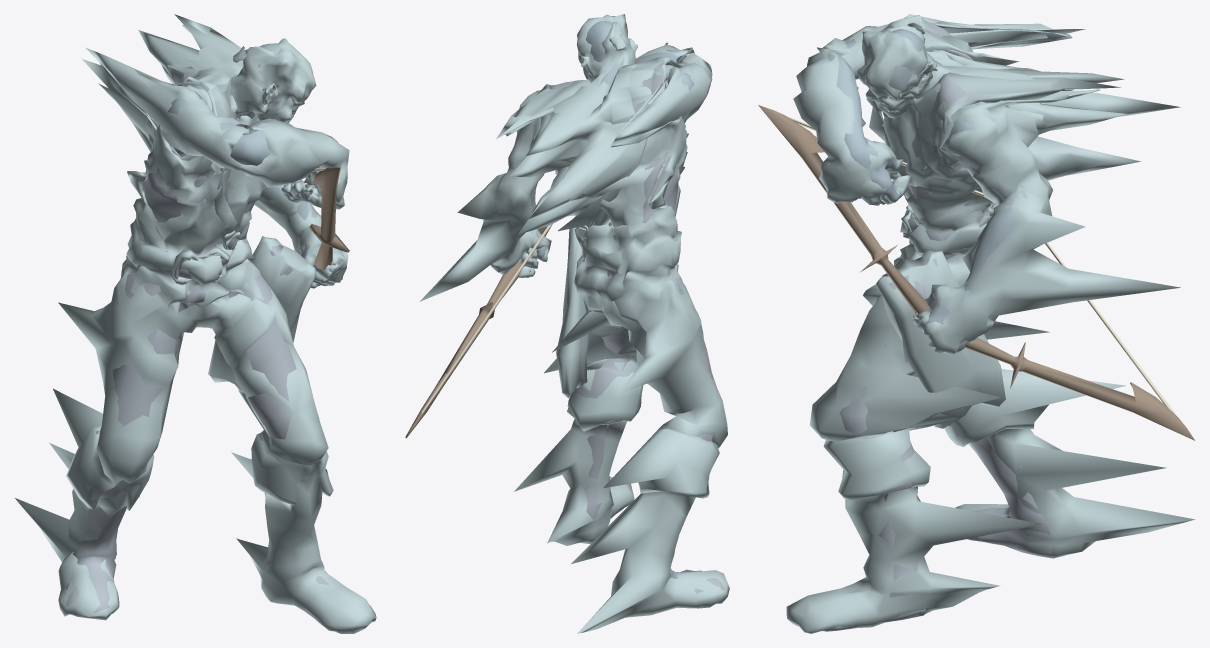
Rendered from frozenguy3.fbx.
The picture shows the model from 3 angles, left to right: view 1: azimuth 30°, elevation 25°; view 2: azimuth 150°, elevation 25°; view 3: azimuth 270°, elevation 25°; orthographic projection. The views are drawn at different scales.
Parts seen in each view (by area): view 1: polySurface2; view 2: polySurface2; view 3: polySurface2.
Boxes of the visible parts, <box> form: polySurface2: <box>15,14,376,633</box>; polySurface2: <box>405,14,729,633</box>; polySurface2: <box>758,14,1195,633</box>.
Size of the model in its own units: 231 by 474 by 324.
